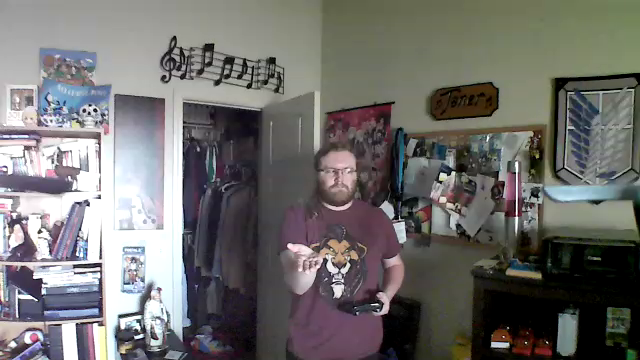land: (284, 238, 325, 277)
